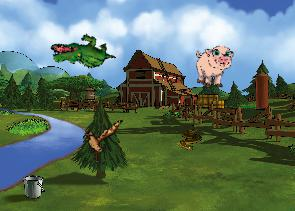crocodile: (48, 26, 116, 79)
eagle: (77, 111, 123, 165)
pig: (192, 43, 235, 89)
